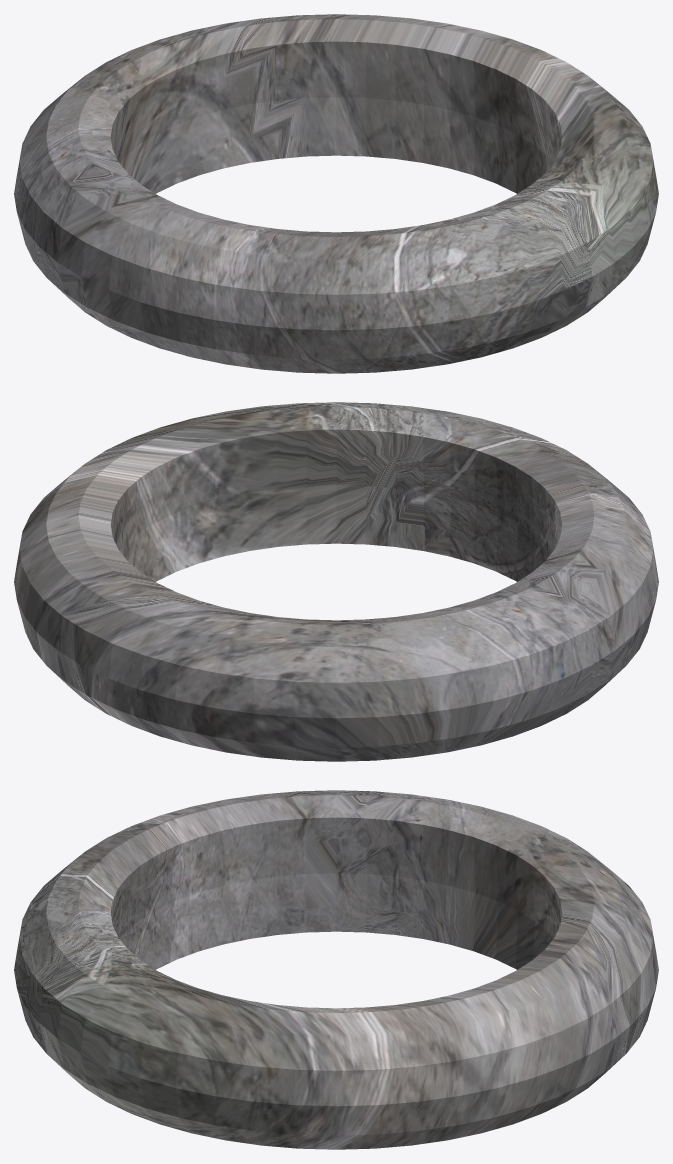
File: ring.dae
3 renders of one model, top to bottom at view 1: azimuth 30°, elevation 25°; view 2: azimuth 150°, elevation 25°; view 3: azimuth 270°, elevation 25°, orthographic.
Visible parts, largest first — view 1: Circle; view 2: Circle; view 3: Circle.
Boxes of the visible parts, x1,y1,x2,y2 form: Circle: (14, 14, 658, 373); Circle: (14, 402, 658, 761); Circle: (14, 790, 658, 1149).
Size of the model in its own units: 2.22 by 2.22 by 0.5.
Materials: 1 (1 with a texture image).
